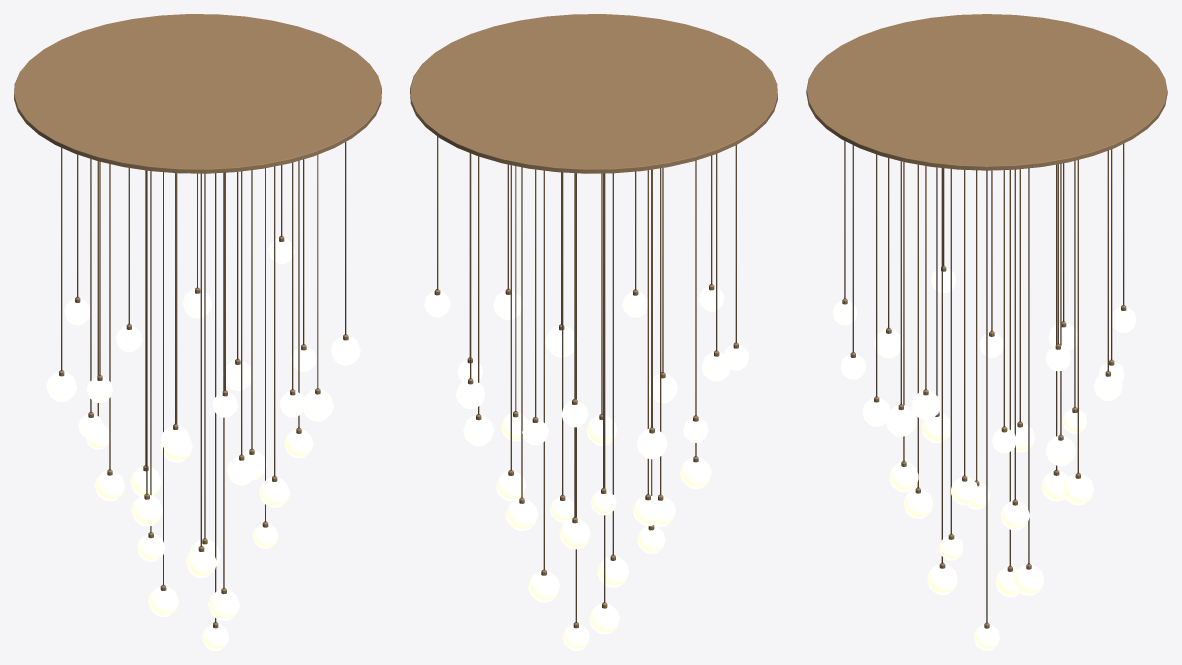
The model's file is living_chandelier.gltf.
3 renders of one model, left to right at view 1: azimuth 30°, elevation 25°; view 2: azimuth 150°, elevation 25°; view 3: azimuth 270°, elevation 25°, orthographic. The views are drawn at different scales.
Visible parts, largest first — view 1: LivingChandelier_PlateNoCollide, LivingChandelier_BulbsNoCollide, LivingChandelier_RodsNoCollide; view 2: LivingChandelier_PlateNoCollide, LivingChandelier_BulbsNoCollide, LivingChandelier_RodsNoCollide; view 3: LivingChandelier_PlateNoCollide, LivingChandelier_BulbsNoCollide, LivingChandelier_RodsNoCollide.
Boxes of the visible parts, bbox=[...] form: LivingChandelier_PlateNoCollide: bbox=[14, 14, 381, 173]; LivingChandelier_BulbsNoCollide: bbox=[46, 238, 360, 650]; LivingChandelier_RodsNoCollide: bbox=[59, 142, 348, 628]; LivingChandelier_PlateNoCollide: bbox=[410, 14, 777, 173]; LivingChandelier_BulbsNoCollide: bbox=[424, 286, 749, 650]; LivingChandelier_RodsNoCollide: bbox=[434, 136, 738, 628]; LivingChandelier_PlateNoCollide: bbox=[806, 14, 1167, 170]; LivingChandelier_BulbsNoCollide: bbox=[833, 267, 1136, 650]; LivingChandelier_RodsNoCollide: bbox=[842, 141, 1126, 628].
Bounding box in the file's own units: 2.1 × 3.54 × 2.1.
